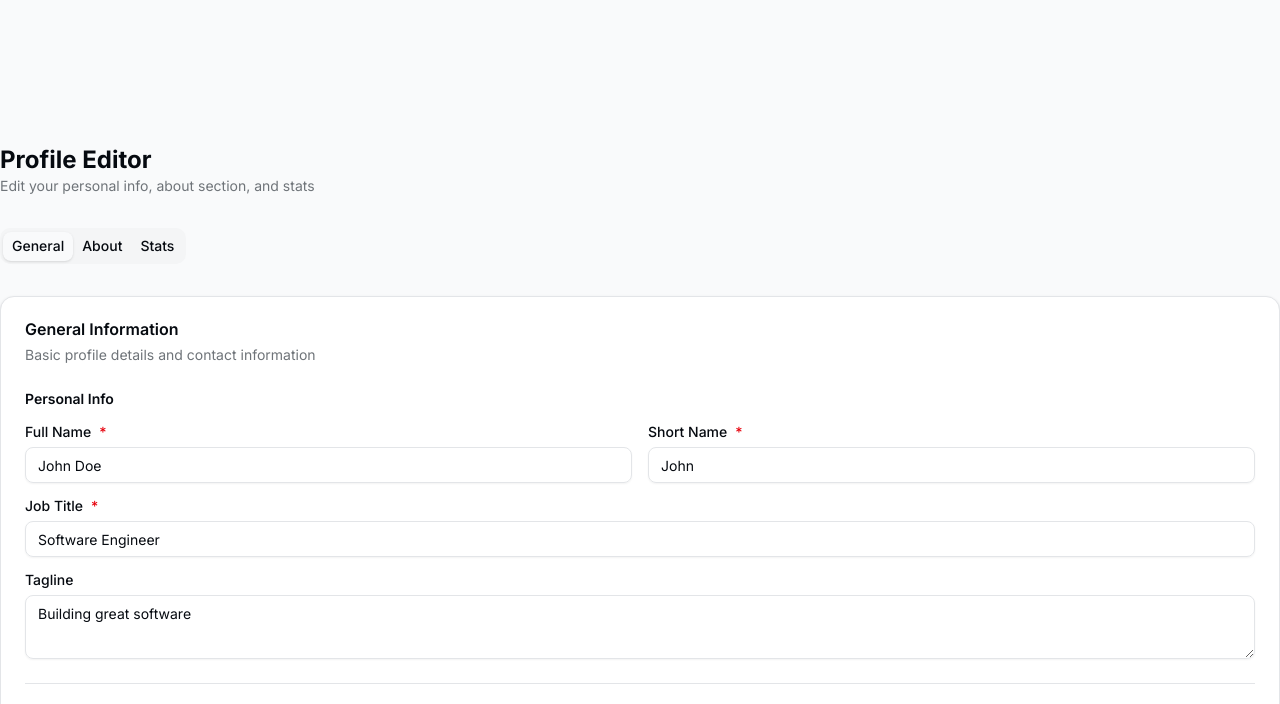
Test: ProfileForm › allows editing and saving general info
Replace the text in the field labelled "Full Name *" with "Jane Doe" at (328, 465), box [25,447,632,483]
(page scrolled)
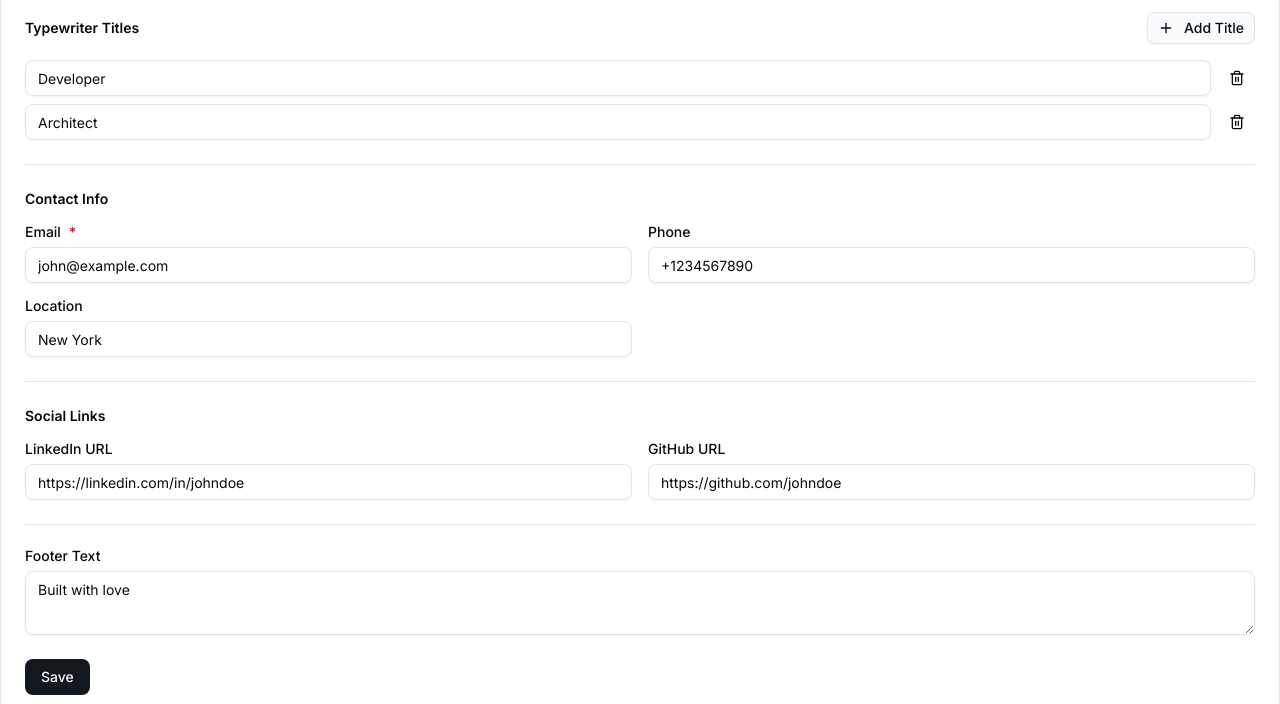
Click the button "Save" at (57, 677), box [25,659,90,695]
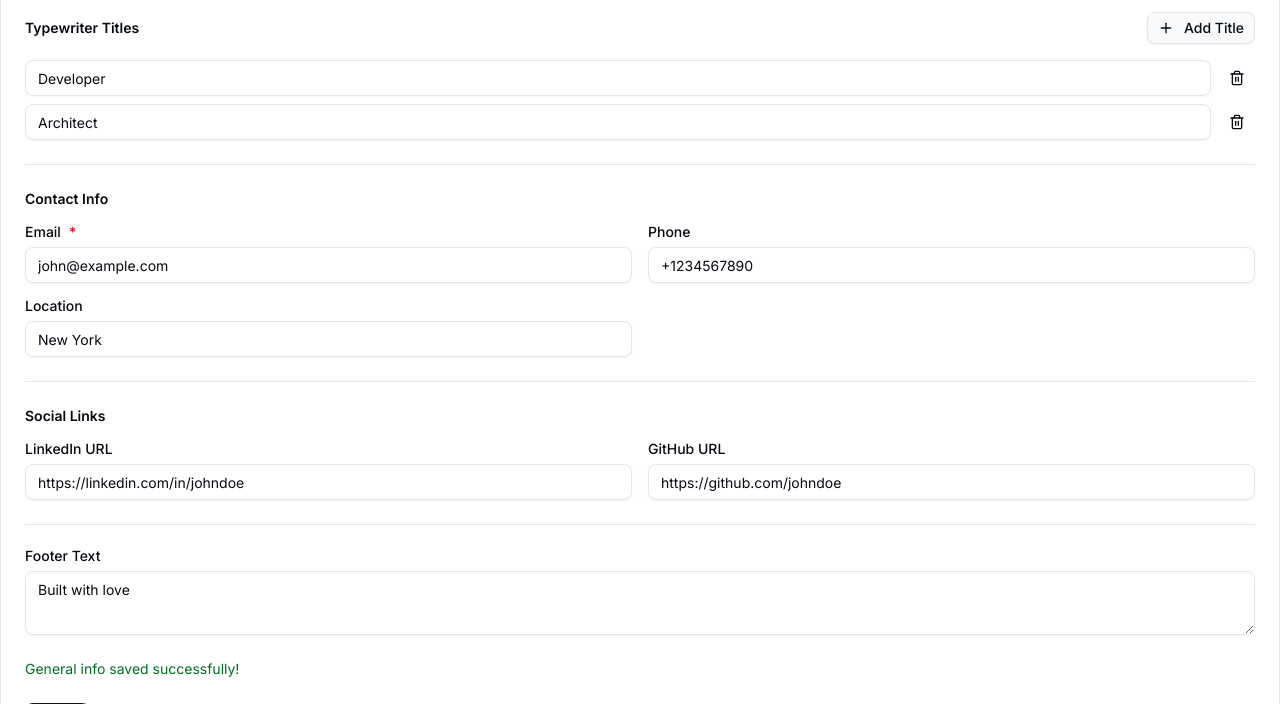
Now the text "General info saved successfully!" is shown, box [25,660,239,677]
